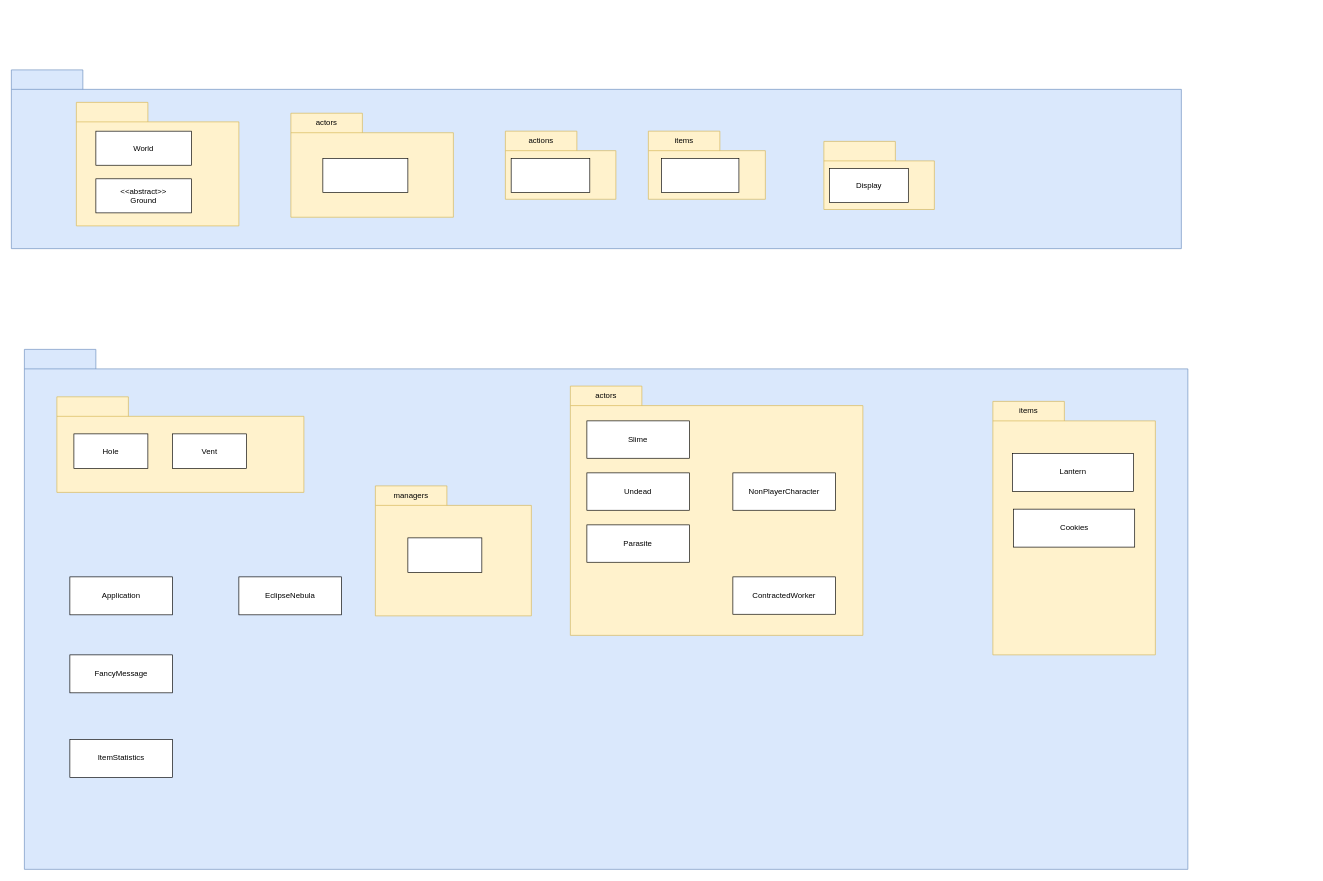
Some shapes in this 1323 by 881 pixel diagram are drawn without their labels. Each missing label, with the box of its shape:
<<abstract>> Action: (511, 158, 590, 192)
<<abstract>> Actor: (322, 158, 408, 192)
<<abstract>> Item: (661, 158, 739, 192)
CreatureSpawner: (407, 537, 482, 572)
displays: (823, 141, 934, 209)
engine: (11, 69, 1181, 249)
game: (24, 349, 1188, 869)
grounds: (56, 396, 304, 492)
positions: (76, 102, 239, 226)
